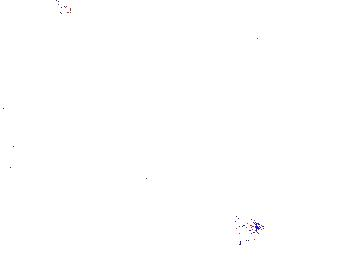X-ray fish: (232, 216, 263, 244), (263, 1, 292, 22)
glassfish: (282, 179, 346, 227)
red belly glassfish: (57, 1, 77, 15)
